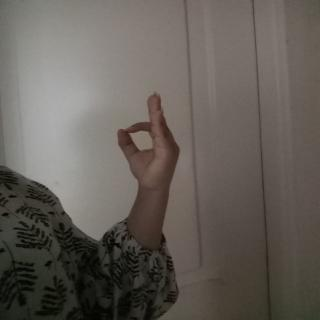Space: (114, 90, 188, 192)
